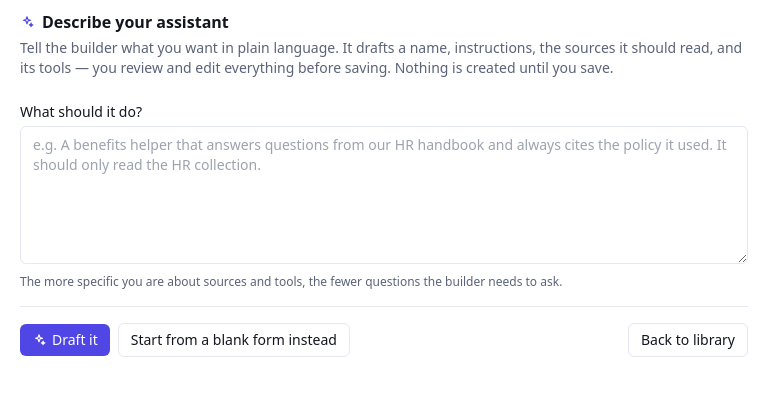
Scenario: DescribeAssistant — draft → editor (E6-1, #213) › blocks a blank description client-side with an inline error
Click the button "Draft it".
click(65, 340)  # box [20,324,110,356]
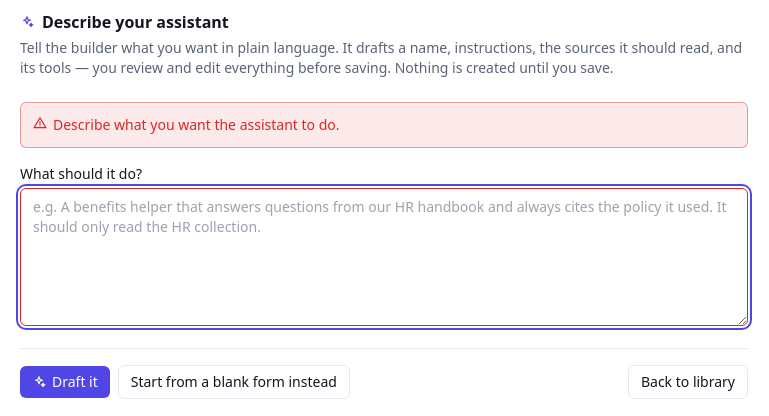
Check: the message shows "Describe what you want", box [53,115,340,134]
